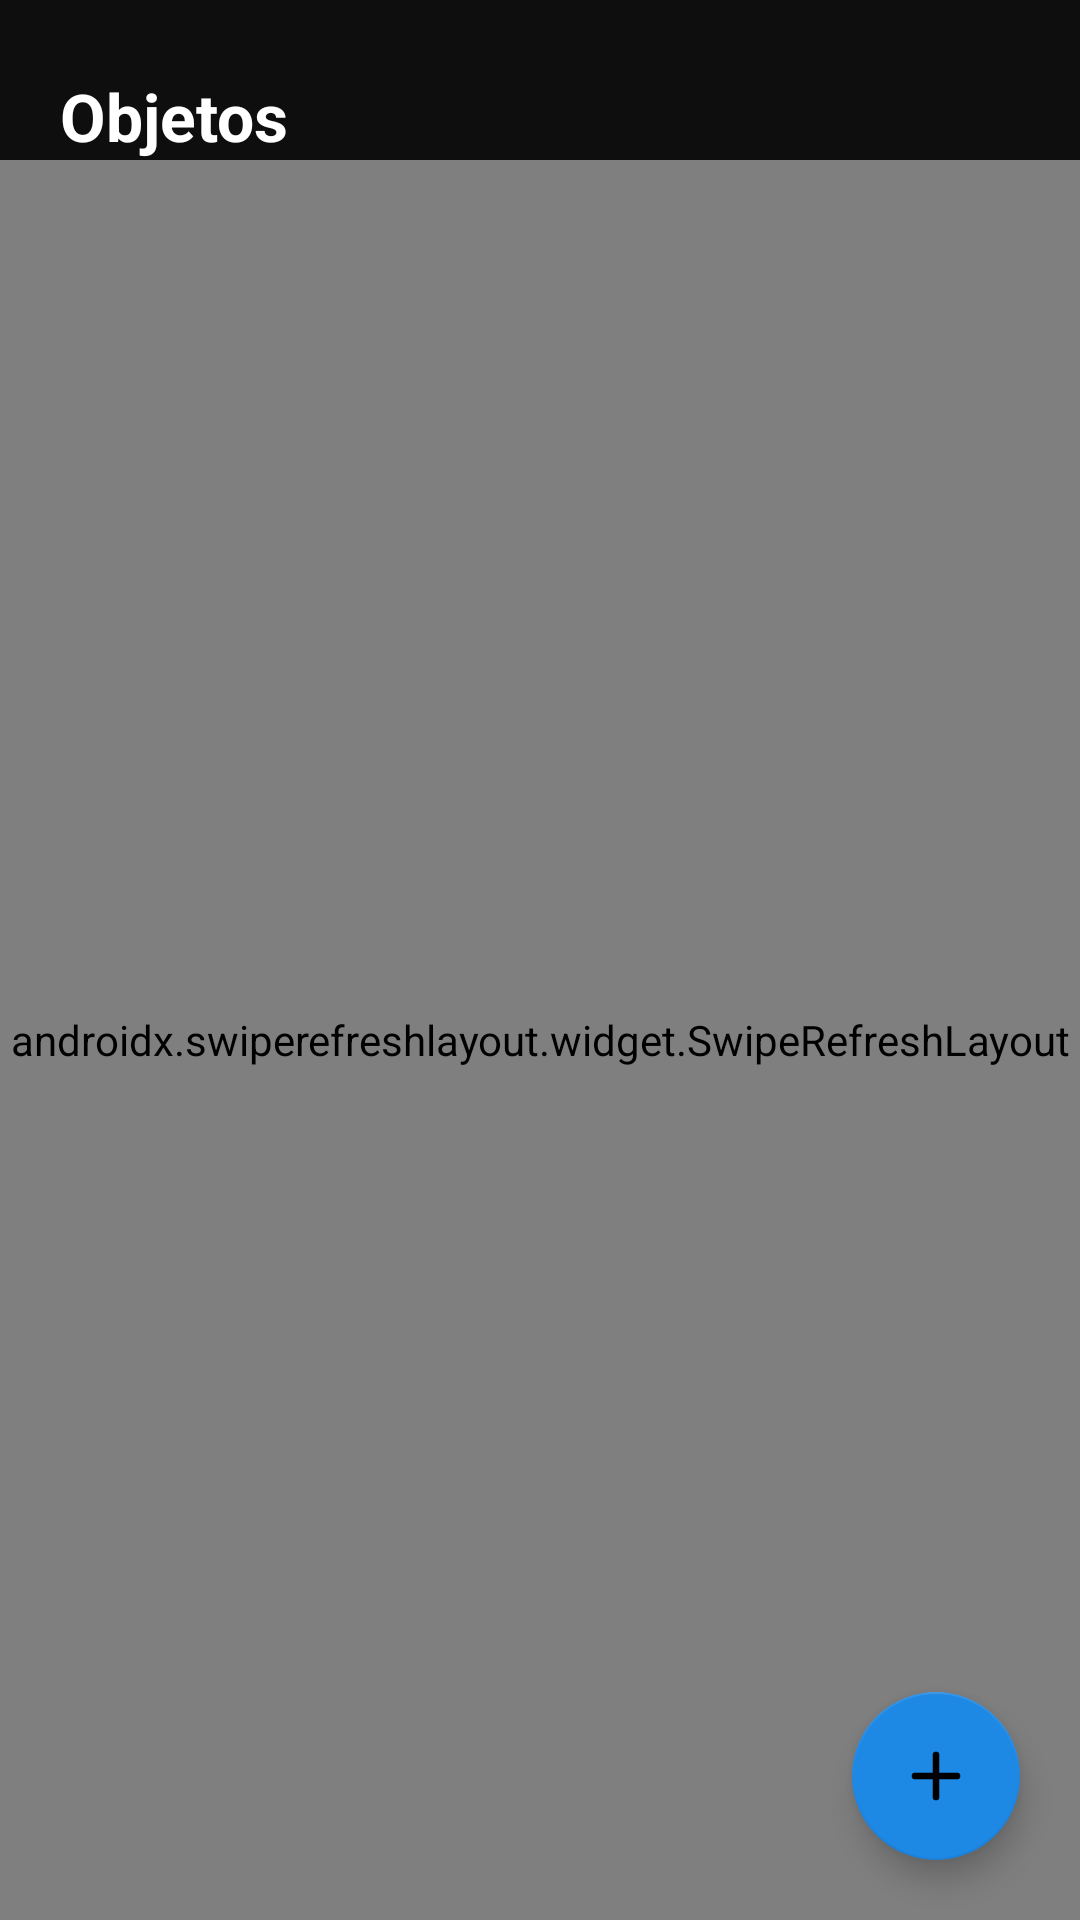

Locate icon controls on the screen. Image size 1080 x 1920, boxes as (x1, y1, x2, y2).
Registrar objeto: (852, 1692, 1020, 1860)
